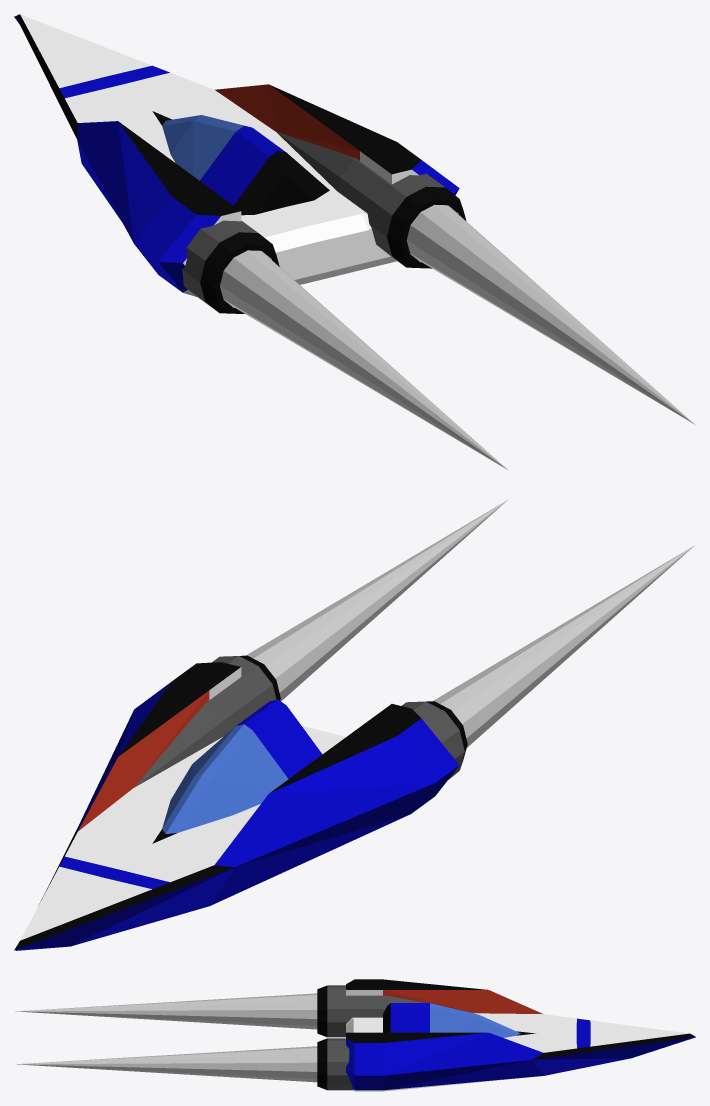
File: fighter.obj
3 renders of one model, top to bottom at view 1: azimuth 30°, elevation 25°; view 2: azimuth 150°, elevation 25°; view 3: azimuth 270°, elevation 25°, orthographic. The views are drawn at different scales.
Visible parts, largest first — view 1: fighter.002_Cylinder.016; view 2: fighter.002_Cylinder.016; view 3: fighter.002_Cylinder.016.
Part boxes in pixels (<box>): fighter.002_Cylinder.016: <box>14,14,694,469</box>; fighter.002_Cylinder.016: <box>14,499,694,950</box>; fighter.002_Cylinder.016: <box>15,979,695,1091</box>.
Bounding box in the file's own units: 1.73 × 0.7521 × 5.85.
